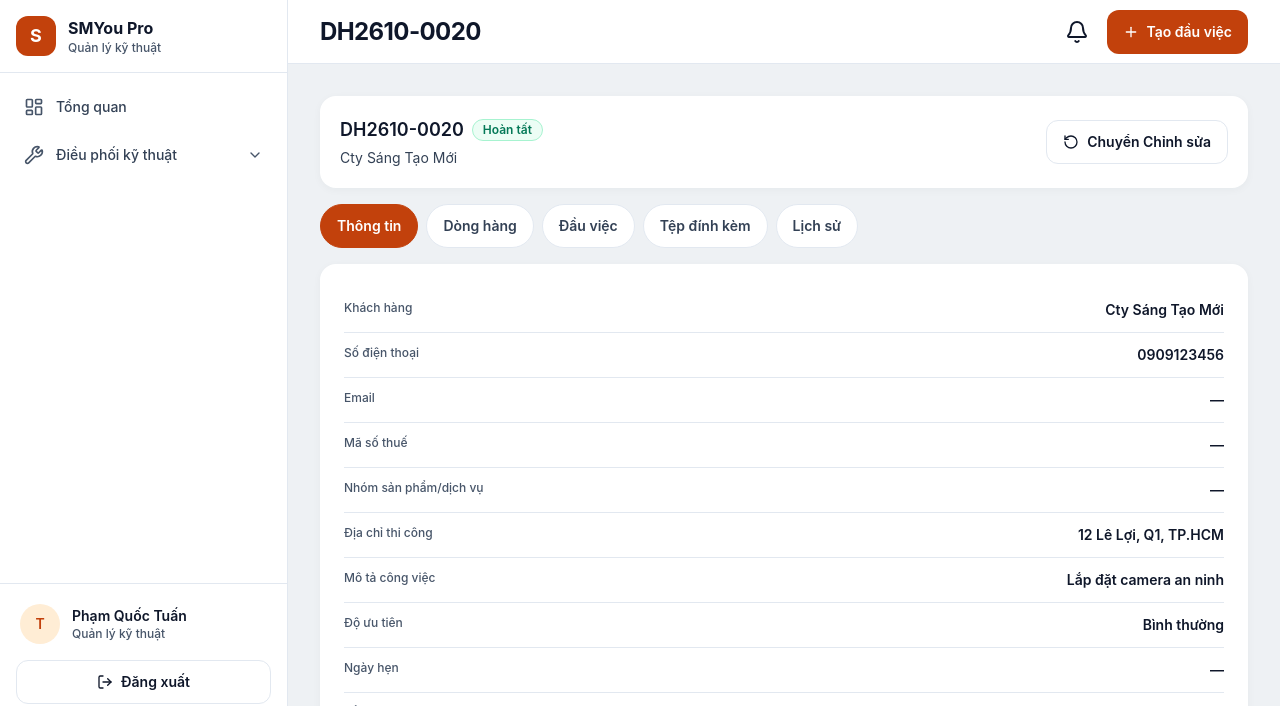
Chuyển Chỉnh sửa (M6-03b) › AC-ORD-154 nhập lý do hợp lệ, xác nhận → gọi API version+reason, thành công → toast + badge đổi
expect the heading "DH2610-0020" is shown: met, box [320,16,481,48]
Click the button "Chuyển Chỉnh sửa" at (1137, 142), box [1046,120,1228,164]
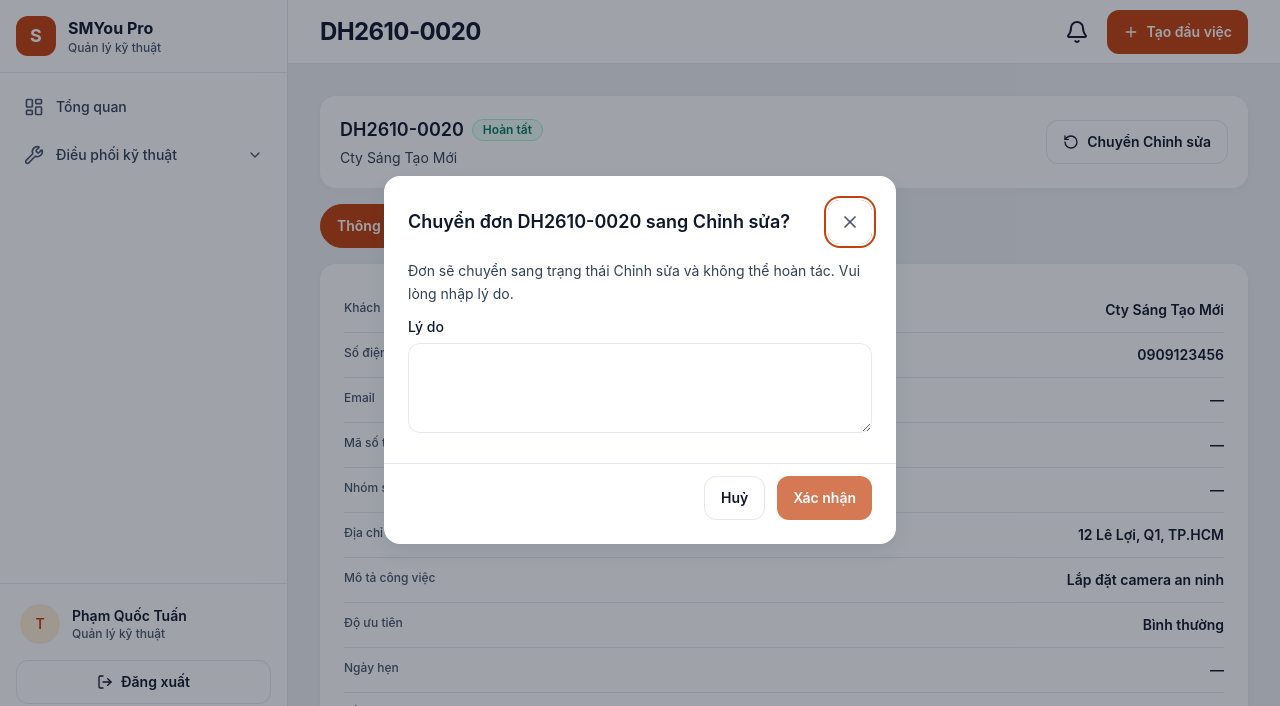
Type "Camera tầng 2 lắp sai vị trí, khách yêu cầu chỉnh" into the text box labelled "Lý do" at (640, 388), box [408,343,872,433]
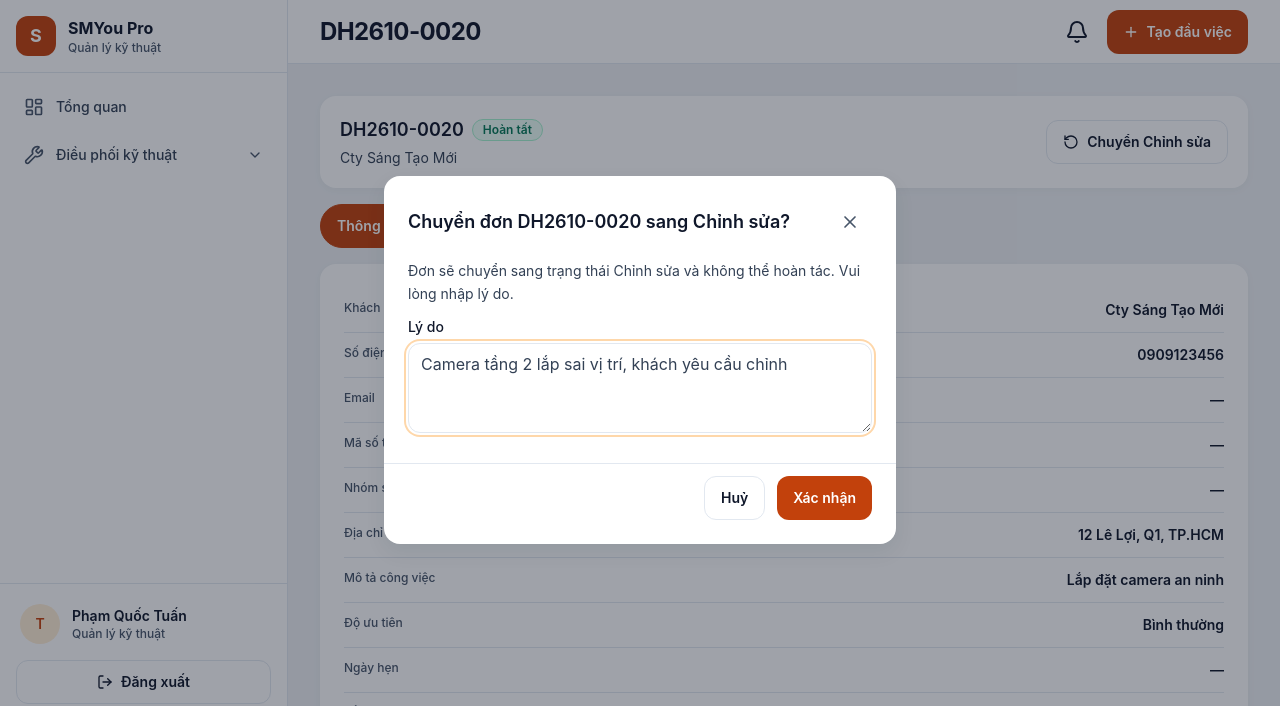
Click the button "Xác nhận" at (825, 498), box [777,476,872,520]
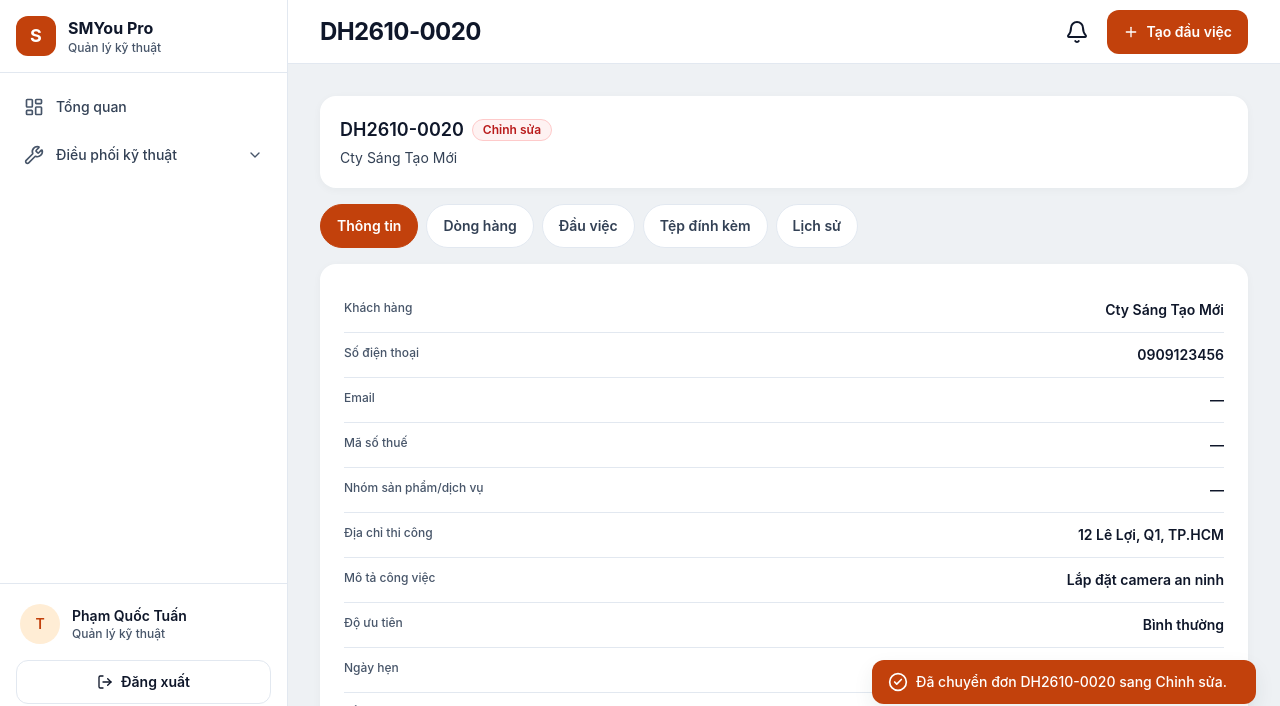
expect the button "Chuyển Chỉnh sửa" is gone: met
